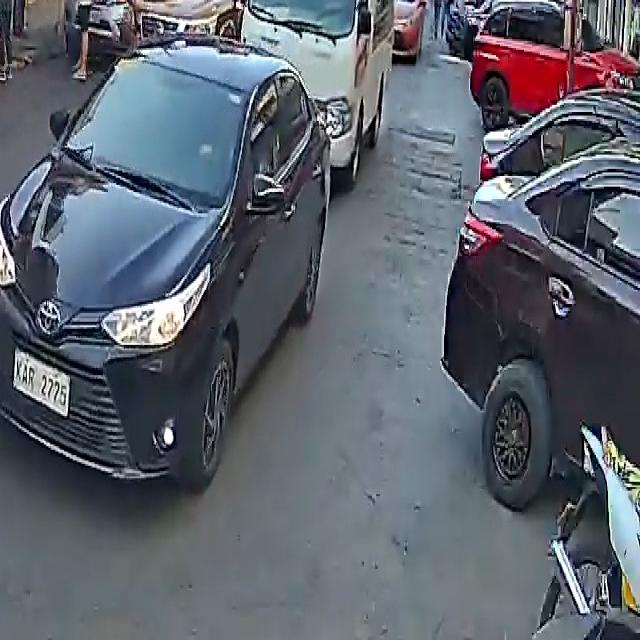car: (0, 39, 338, 487), (444, 106, 640, 522), (467, 0, 640, 128), (120, 0, 252, 59), (83, 0, 193, 21), (390, 0, 426, 52)
